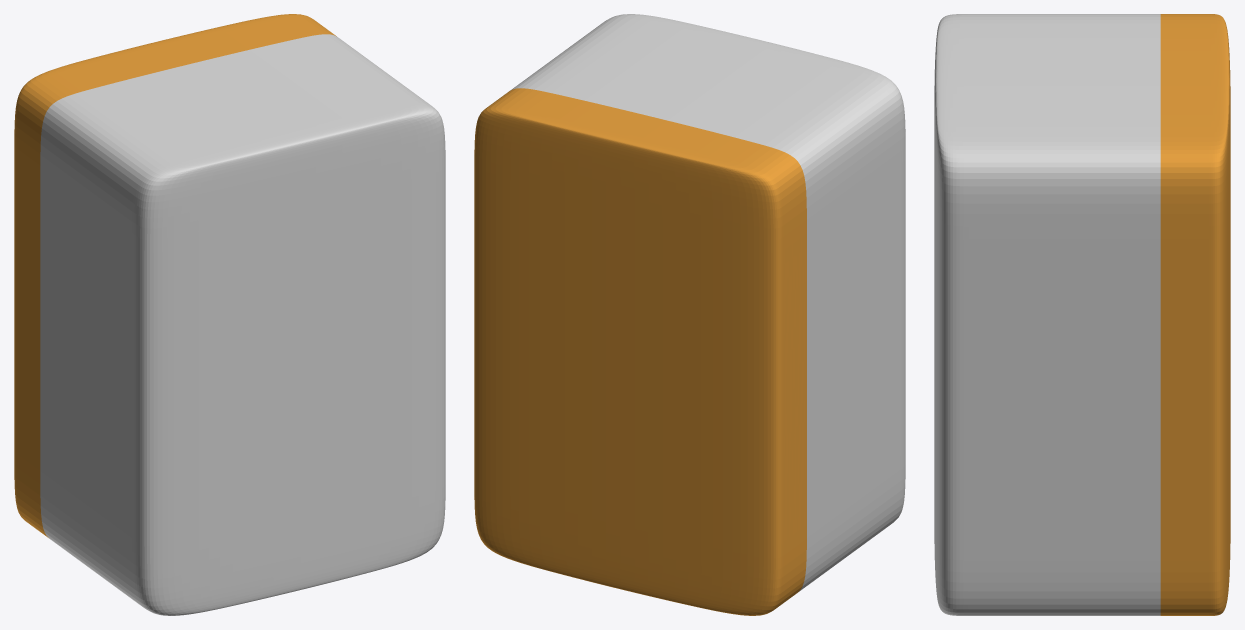
The model's file is Haku.fbx.
The picture shows the model from 3 angles, left to right: view 1: azimuth 30°, elevation 25°; view 2: azimuth 150°, elevation 25°; view 3: azimuth 270°, elevation 25°; orthographic projection. The views are drawn at different scales.
Visible parts, largest first — view 1: Tile; view 2: Tile; view 3: Tile.
Part boxes in pixels (x1,y1,x2,y2): Tile: [14, 14, 445, 615]; Tile: [474, 14, 905, 615]; Tile: [934, 14, 1230, 615].
Bounding box in the file's own units: 2 × 2.8 × 1.59.
